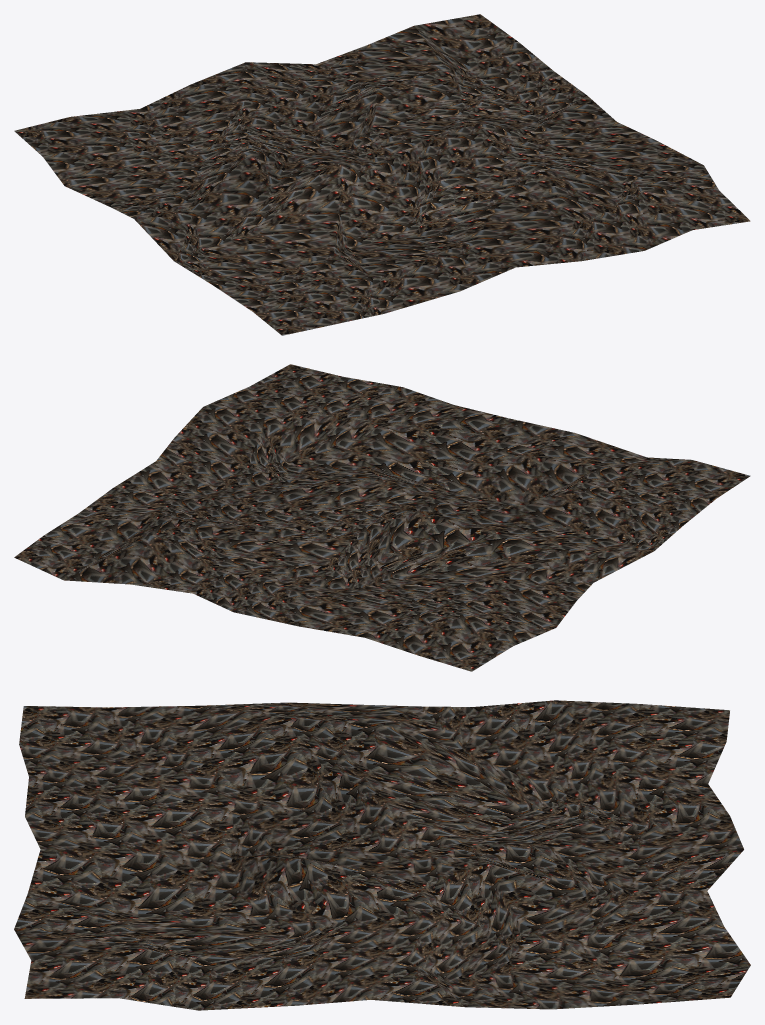
Rendered from gomiFace.fbx.
3 views of the same model, one above another, from view 1: azimuth 30°, elevation 25°; view 2: azimuth 150°, elevation 25°; view 3: azimuth 270°, elevation 25° (orthographic). The views are drawn at different scales.
Visible parts, largest first — view 1: 平面; view 2: 平面; view 3: 平面.
Part boxes in pixels (x1,y1,x2,y2): 平面: (14,14,750,335); 平面: (14,364,750,671); 平面: (14,700,750,1010).
Size of the model in its own units: 1272 by 75.67 by 1271.
1 material, 1 textured.
